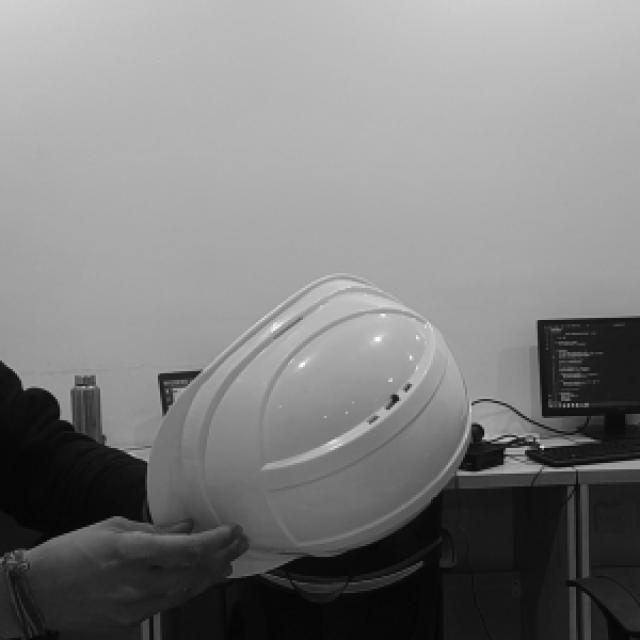safety_helmet: (147, 276, 472, 577)
